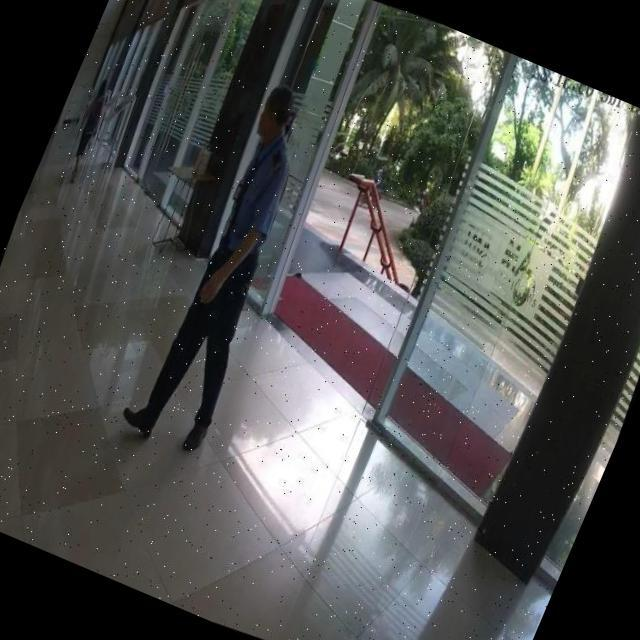person: (100, 67, 350, 460)
